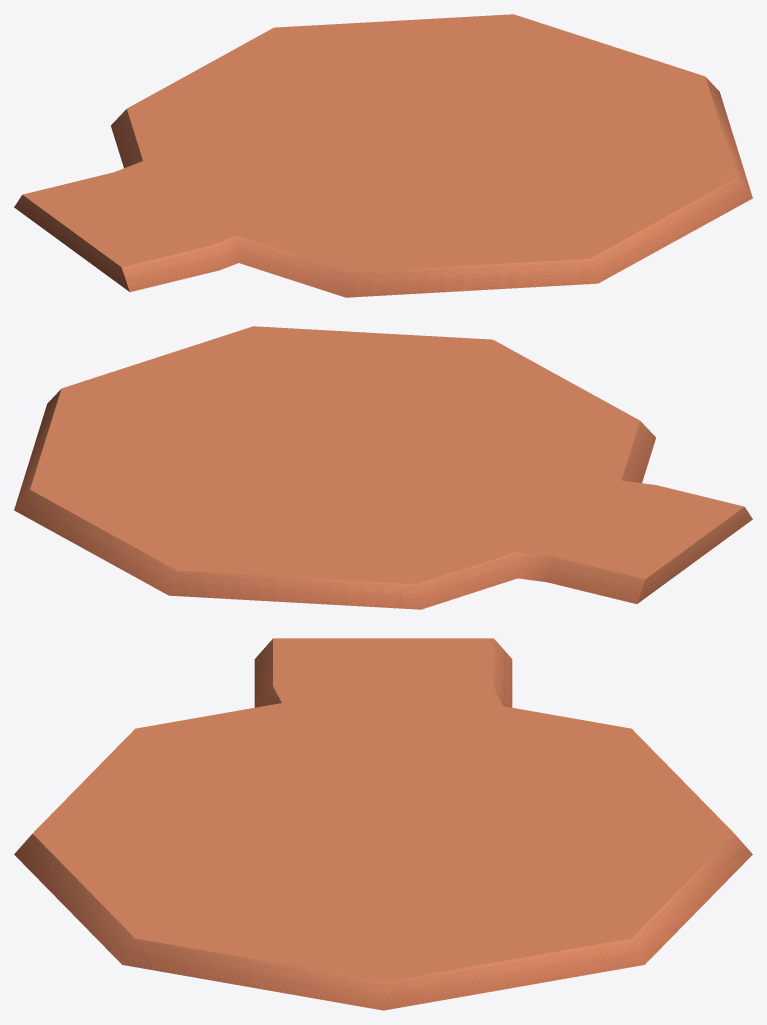
The model's file is path-square-end.glb.
3 views of the same model, one above another, from view 1: azimuth 30°, elevation 25°; view 2: azimuth 150°, elevation 25°; view 3: azimuth 270°, elevation 25° (orthographic). The views are drawn at different scales.
Parts seen in each view (by area): view 1: path-square-end; view 2: path-square-end; view 3: path-square-end.
Part boxes in pixels (<box>): path-square-end: <box>14,14,752,297</box>; path-square-end: <box>14,326,752,609</box>; path-square-end: <box>14,638,752,1010</box>.
Size of the model in its own units: 0.9 by 0.025 by 0.8.
1 material, 1 textured.
